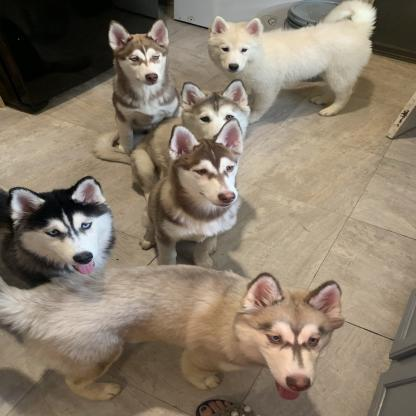husky: (0, 259, 345, 398), (200, 3, 378, 121), (0, 175, 120, 287), (152, 126, 243, 265), (103, 18, 180, 154), (187, 78, 263, 142)
